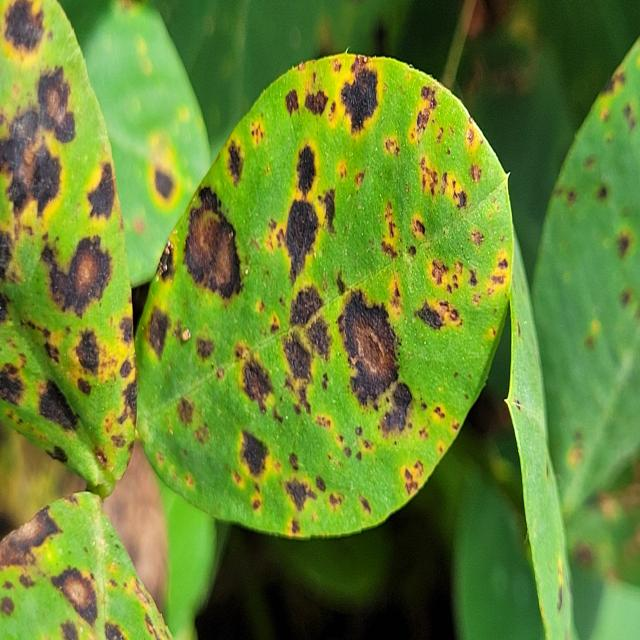Ground nut_tikka leaf spot: (140, 57, 513, 536), (0, 0, 139, 489), (1, 490, 178, 638)
